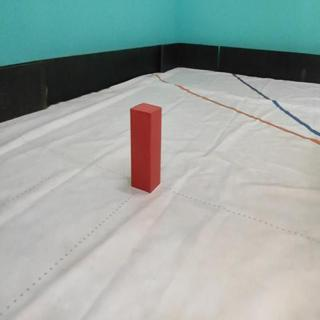redbox: (129, 101, 162, 193)
